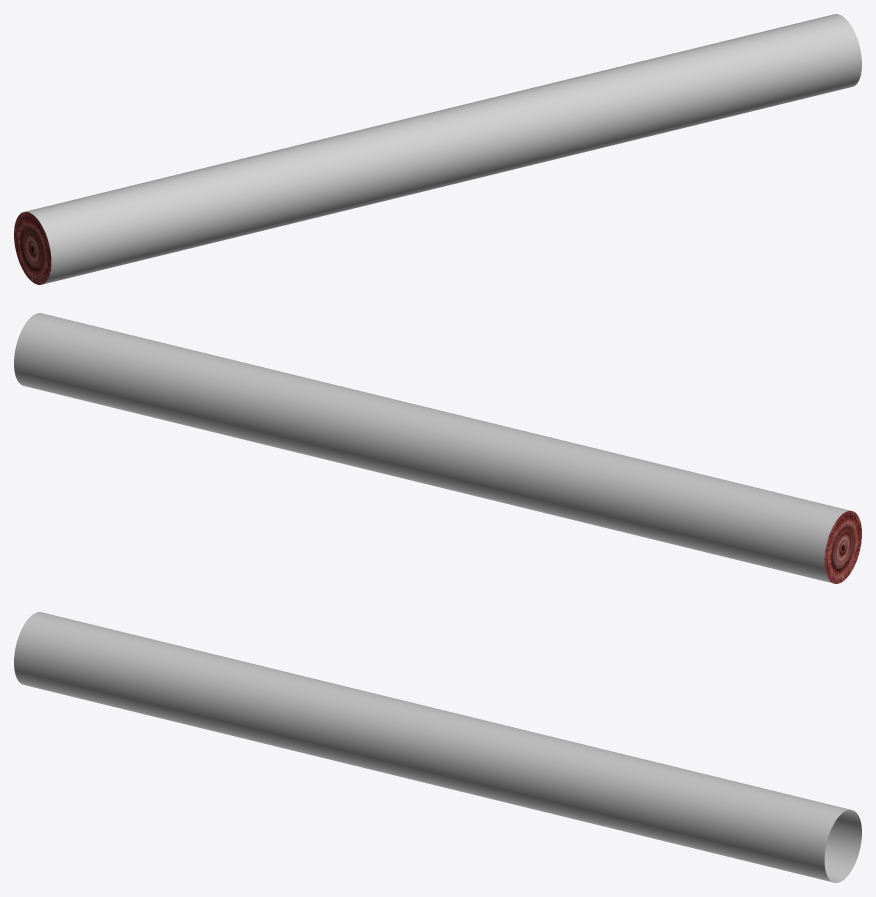
File: tuberia.fbx
3 views of the same model, one above another, from view 1: azimuth 30°, elevation 25°; view 2: azimuth 150°, elevation 25°; view 3: azimuth 330°, elevation 25° (orthographic).
Visible parts, largest first — view 1: Mega_Tuberia; view 2: Mega_Tuberia; view 3: Mega_Tuberia.
Boxes of the visible parts, x1=… form: Mega_Tuberia: x1=14, y1=14, x2=861, y2=284; Mega_Tuberia: x1=14, y1=313, x2=861, y2=583; Mega_Tuberia: x1=14, y1=612, x2=861, y2=882.
Bounding box in the file's own units: 200 × 16 × 16.
